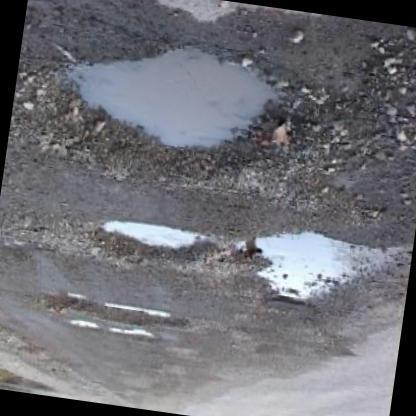pothole: (52, 40, 316, 167), (235, 228, 396, 308), (96, 215, 230, 268), (32, 288, 187, 332)
